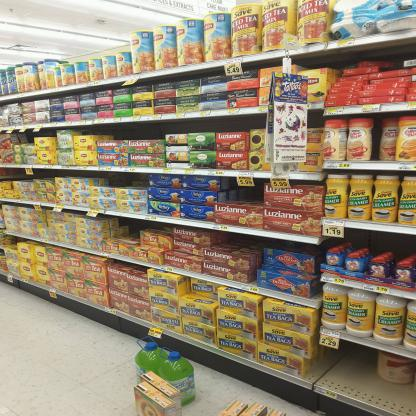Void: (326, 346, 366, 389), (355, 230, 415, 251), (377, 383, 413, 413), (215, 229, 264, 251), (114, 124, 167, 138), (229, 182, 257, 200), (113, 219, 138, 237)
